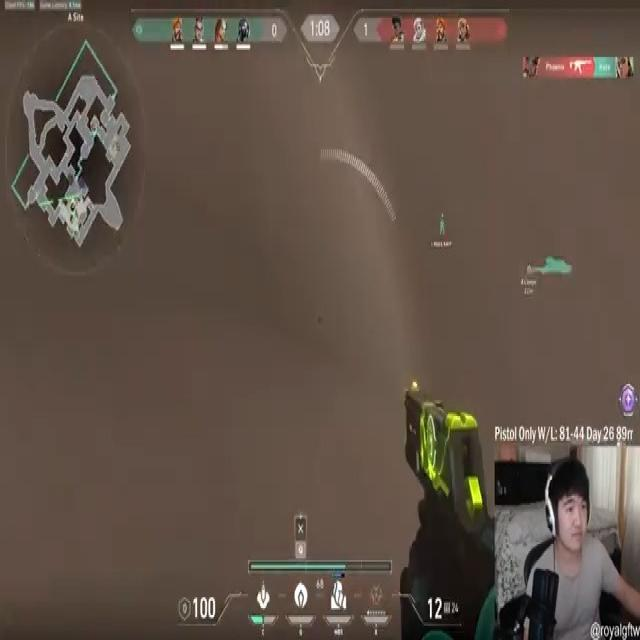ally behind wall: (524, 250, 574, 276), (439, 215, 445, 236)
